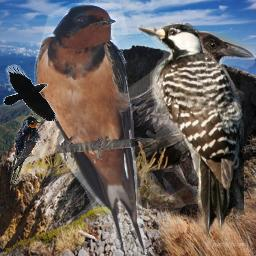Crow: (19, 31, 255, 208), (3, 64, 58, 121)
Swallow: (34, 3, 146, 256), (9, 115, 41, 184)
Woodpecker: (137, 23, 244, 236)
